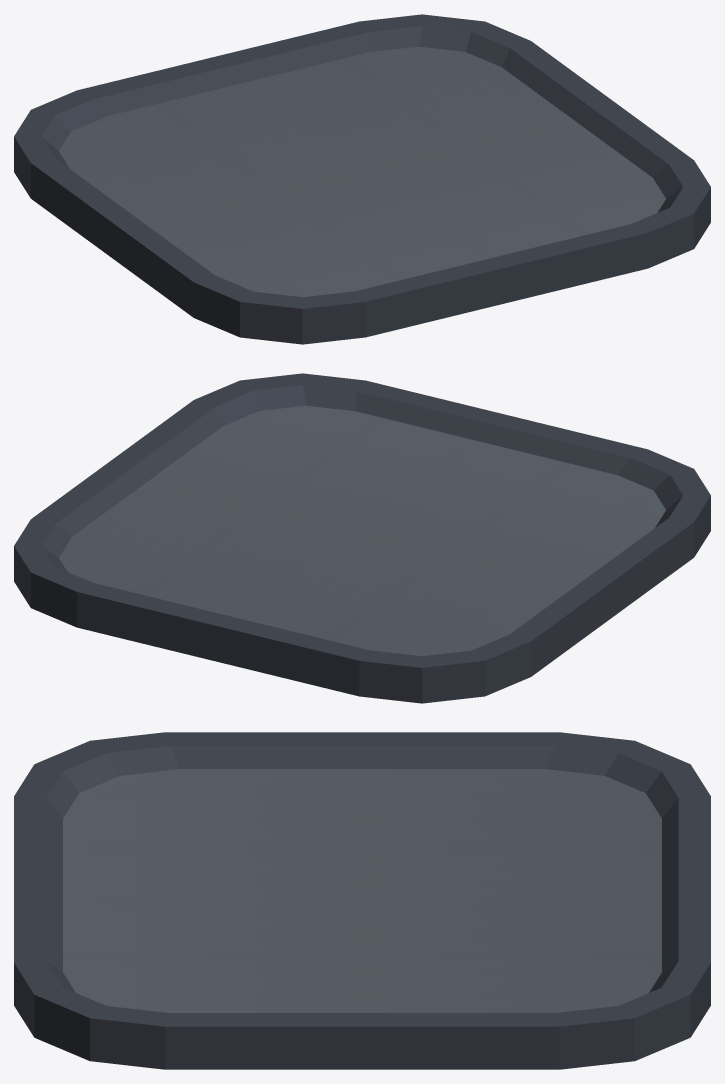
File: SM_Platform1.fbx
The picture shows the model from 3 angles, top to bottom: view 1: azimuth 30°, elevation 25°; view 2: azimuth 150°, elevation 25°; view 3: azimuth 270°, elevation 25°; orthographic projection. The views are drawn at different scales.
Visible parts, largest first — view 1: SM_Platform1; view 2: SM_Platform1; view 3: SM_Platform1.
Boxes of the visible parts, x1=… form: SM_Platform1: x1=14, y1=14, x2=710, y2=344; SM_Platform1: x1=14, y1=373, x2=710, y2=703; SM_Platform1: x1=14, y1=732, x2=710, y2=1069.
Bounding box in the file's own units: 200 × 13.62 × 200.
